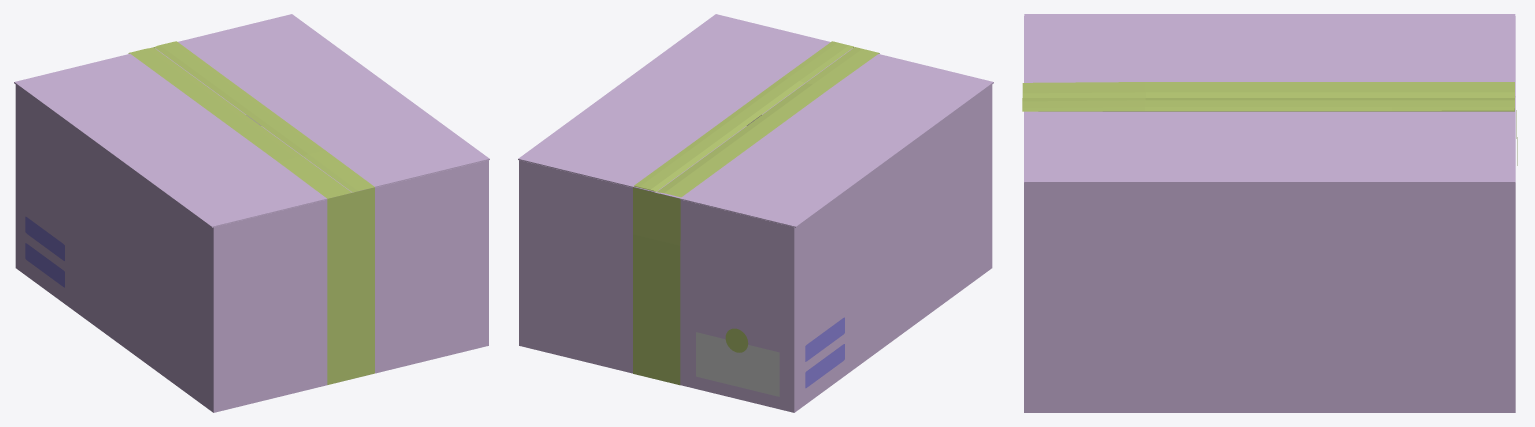
The model's file is BoxСolor1.glb.
The picture shows the model from 3 angles, left to right: view 1: azimuth 30°, elevation 25°; view 2: azimuth 150°, elevation 25°; view 3: azimuth 270°, elevation 25°; orthographic projection. The views are drawn at different scales.
Parts seen in each view (by area): view 1: Box_Body, Box_Flap_RL, Box_Flap_LL, Plane.003, Plane.002; view 2: Box_Body, Box_Flap_RL, Box_Flap_LL, Plane.001, Plane.003, Plane.002, Circle; view 3: Box_Body, Box_Flap_LL, Box_Flap_RL.
Part boxes in pixels (x1,y1,x2,y2): Box_Body: (15, 47, 488, 412); Box_Flap_RL: (14, 47, 351, 227); Box_Flap_LL: (154, 14, 489, 192); Plane.003: (25, 216, 64, 260); Plane.002: (25, 243, 64, 287); Box_Body: (519, 47, 992, 412); Box_Flap_RL: (657, 47, 993, 227); Box_Flap_LL: (518, 14, 853, 192); Plane.001: (696, 332, 779, 396); Plane.003: (805, 317, 844, 361); Plane.002: (805, 344, 844, 388); Circle: (725, 328, 748, 352); Box_Body: (1024, 16, 1517, 412); Box_Flap_LL: (1022, 98, 1515, 183); Box_Flap_RL: (1022, 14, 1515, 97).
Size of the model in its own units: 2.33 by 1.51 by 2.92.
Materials: 4 (1 with a texture image).
